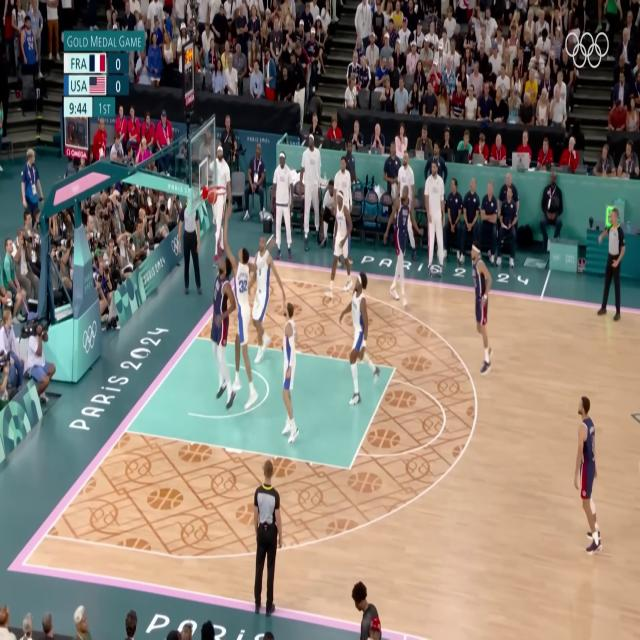player: (205, 243, 243, 414), (455, 241, 499, 379), (570, 394, 606, 558), (270, 296, 304, 456), (222, 231, 253, 405), (339, 276, 382, 400), (382, 187, 417, 314), (248, 235, 273, 365), (326, 187, 356, 295)
